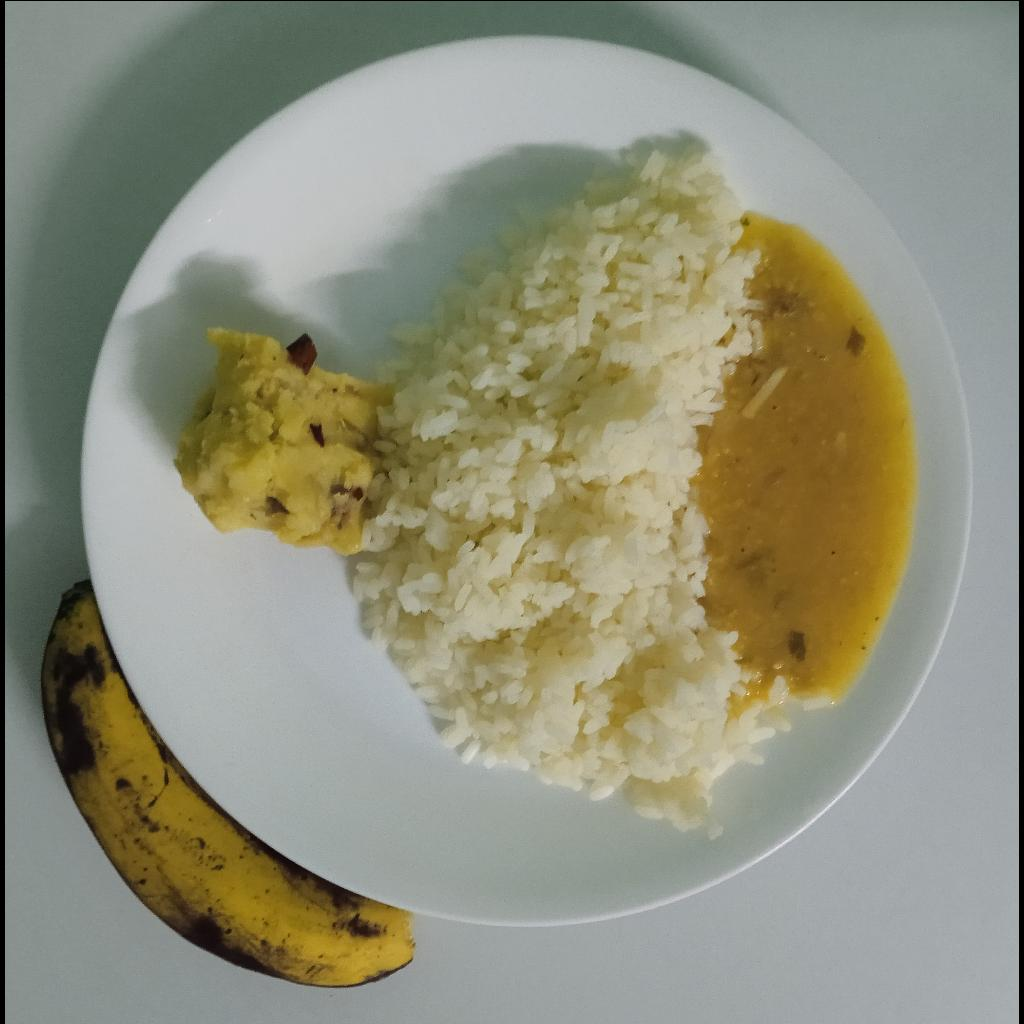banana: (40, 579, 416, 989)
daal: (693, 211, 914, 703)
potato-mashed: (173, 327, 376, 553)
rice: (356, 144, 781, 833)
